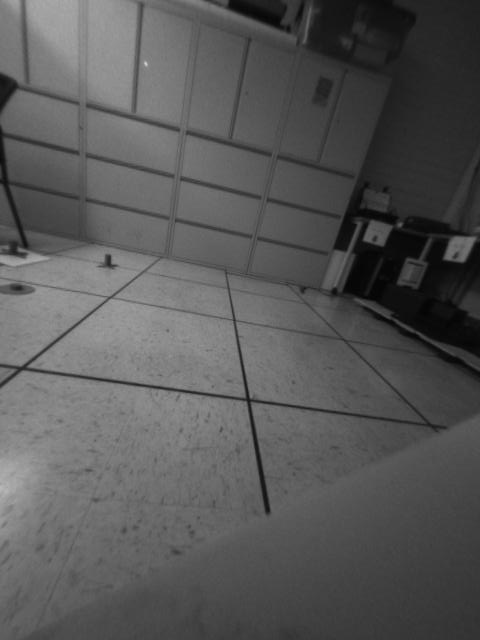X: (1, 238, 29, 261), (96, 251, 117, 269)
